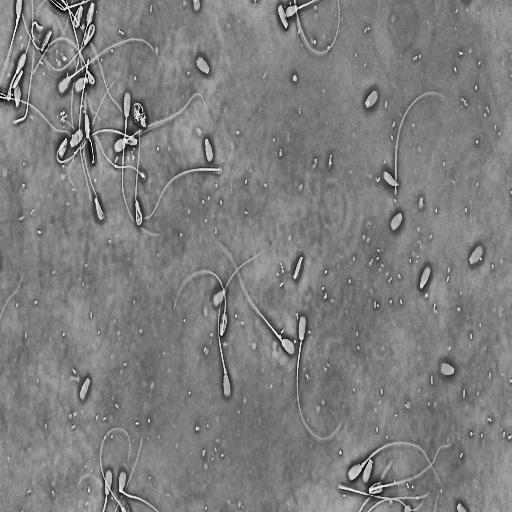coiled-tail: (63, 119, 104, 220), (41, 23, 96, 73), (135, 106, 143, 226), (137, 205, 141, 224)
dirt-particles: (131, 99, 149, 132)
folded-tail: (368, 443, 450, 493), (174, 271, 227, 335), (56, 128, 138, 164), (118, 490, 158, 512)
loose-head: (275, 1, 290, 33), (363, 86, 381, 112), (468, 242, 485, 269), (418, 263, 433, 292), (290, 252, 305, 281), (69, 124, 84, 152), (195, 53, 211, 76), (383, 168, 400, 189), (78, 376, 91, 402), (389, 210, 404, 232), (439, 359, 456, 378), (203, 136, 214, 165)
loose-tail: (393, 87, 447, 197), (137, 164, 224, 223), (78, 55, 98, 222), (336, 483, 426, 512), (12, 25, 36, 126), (366, 490, 433, 512)
normal: (214, 242, 295, 356), (57, 33, 162, 98), (113, 89, 211, 155), (218, 251, 259, 399), (296, 315, 343, 441), (122, 91, 160, 236), (55, 81, 117, 167), (60, 115, 106, 224), (367, 439, 455, 495), (347, 441, 442, 486), (171, 268, 229, 339), (116, 465, 160, 512), (133, 103, 144, 228), (86, 126, 140, 150), (6, 53, 27, 102)
proximal-droplet: (361, 462, 365, 468), (224, 368, 227, 374)
